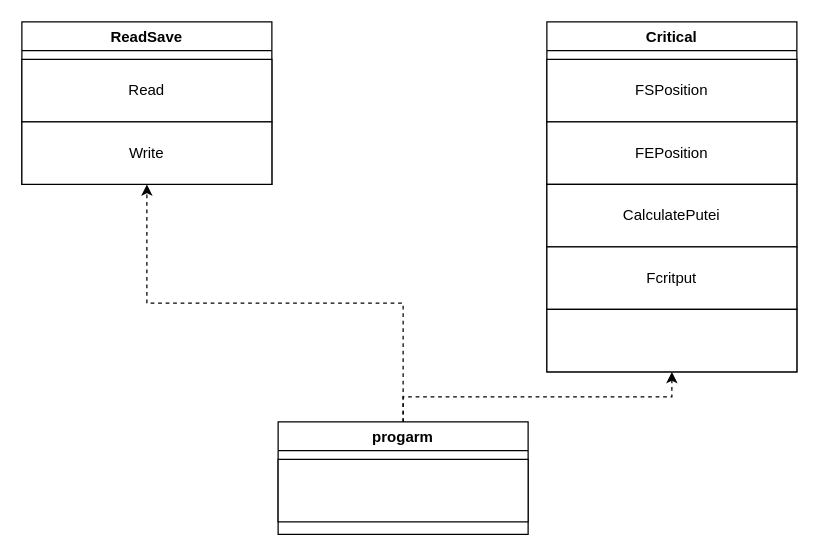
Image size: 819x556. Some labels were removed from this diagram. The shapes that lost their labels are listed below. From the top down, each one's centre as x and y in pixels, then its label:
point 671,340: RaschetCritPut
point 402,490: Main
